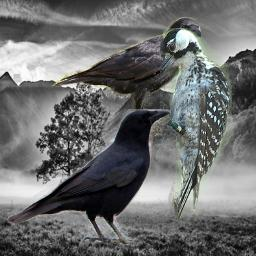Crow: (7, 109, 171, 244), (49, 17, 201, 138)
Woodpecker: (160, 28, 232, 219)
